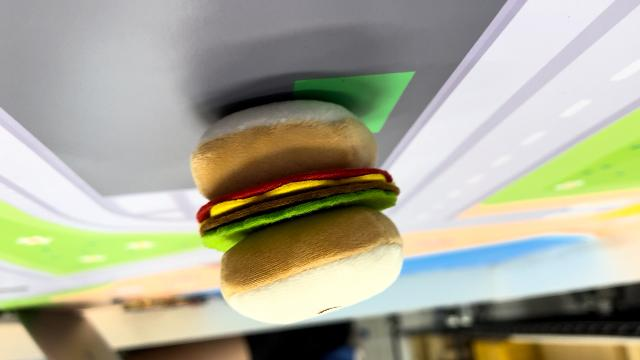sandwich: (186, 96, 408, 324)
